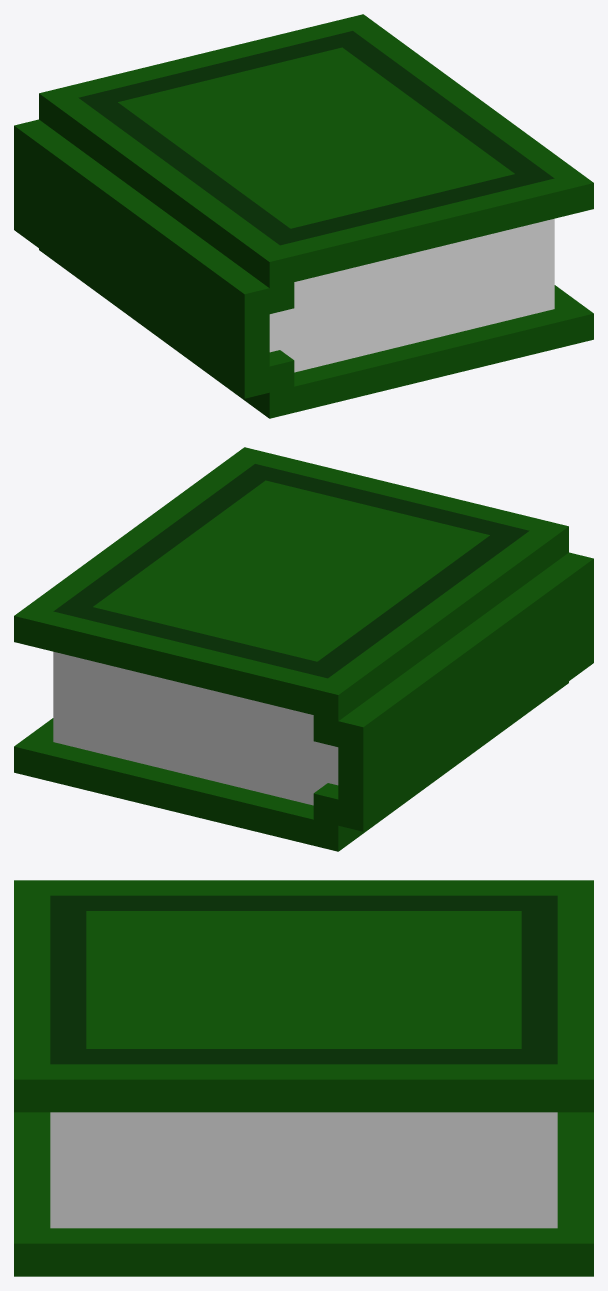
Rendered from livre_fermer_green.obj.
The picture shows the model from 3 angles, top to bottom: view 1: azimuth 30°, elevation 25°; view 2: azimuth 150°, elevation 25°; view 3: azimuth 270°, elevation 25°; orthographic projection. The views are drawn at different scales.
Size of the model in its own units: 1.4 by 0.6 by 1.6.
Materials: 1 (1 with a texture image).
